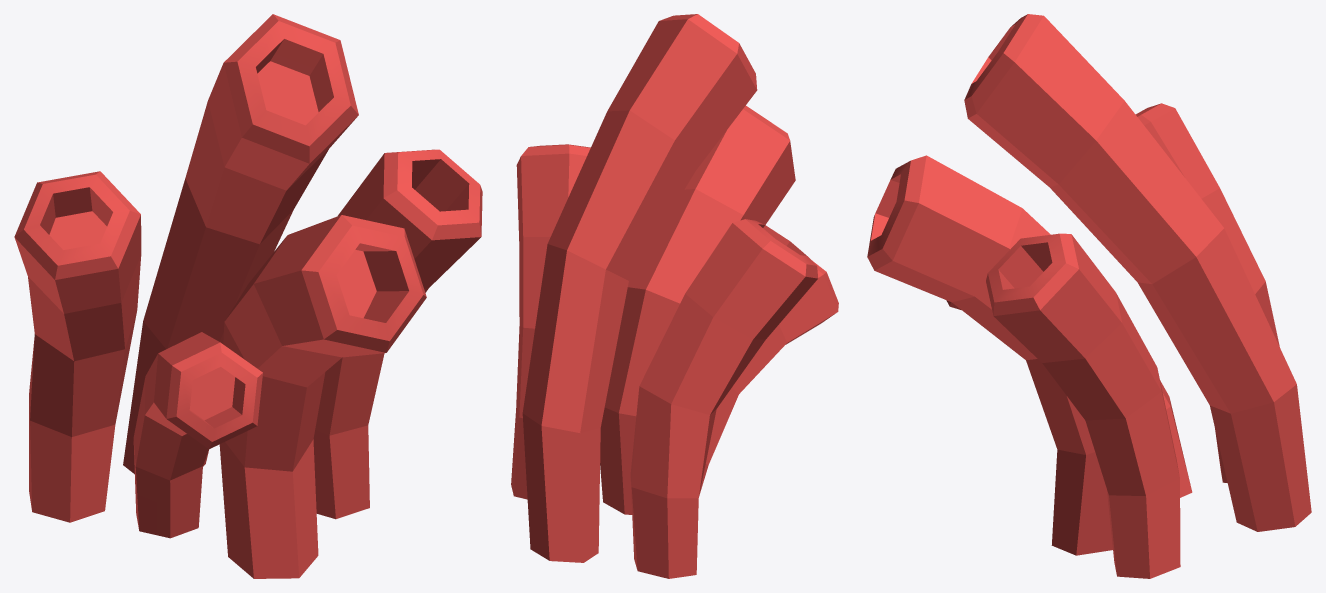
File: Coral-5.glb
3 views of the same model, side by side, from view 1: azimuth 30°, elevation 25°; view 2: azimuth 150°, elevation 25°; view 3: azimuth 270°, elevation 25° (orthographic). The views are drawn at different scales.
Parts seen in each view (by area): view 1: Coral_025; view 2: Coral_025; view 3: Coral_025.
Boxes of the visible parts, left/top/right/bottom form: Coral_025: left=14, top=14, right=482, bottom=578; Coral_025: left=511, top=14, right=838, bottom=578; Coral_025: left=867, top=14, right=1311, bottom=578.
Size of what is drawn, in the model's own units: 0.5255 by 0.7094 by 0.5529.
1 material, 1 textured.
